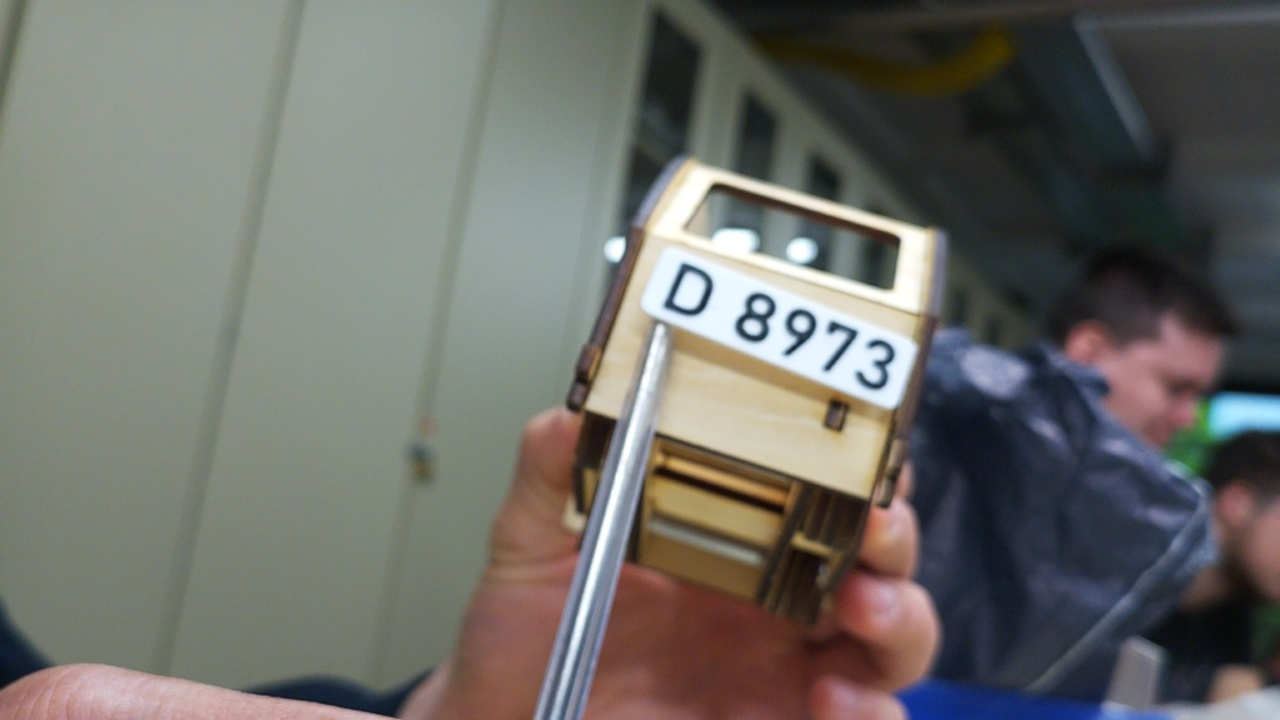license_plate: (638, 244, 923, 413)
